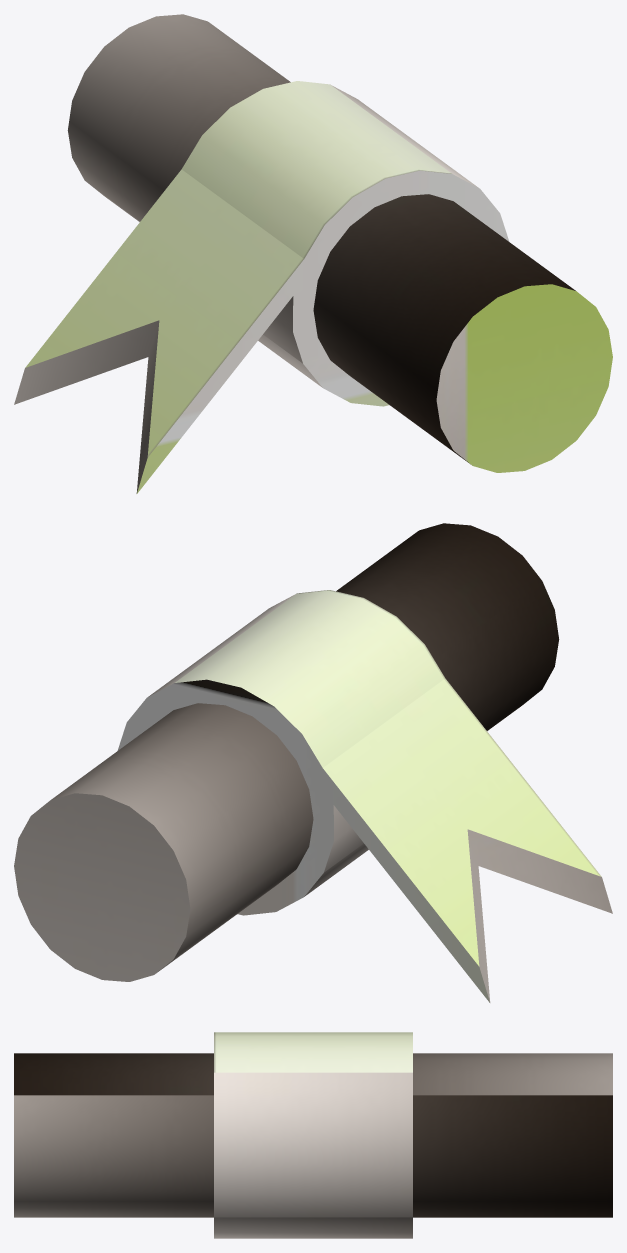
The model's file is DiplomaBurned.fbx.
3 views of the same model, one above another, from view 1: azimuth 30°, elevation 25°; view 2: azimuth 150°, elevation 25°; view 3: azimuth 270°, elevation 25° (orthographic). The views are drawn at different scales.
Visible parts, largest first — view 1: DiplomaBurned; view 2: DiplomaBurned; view 3: DiplomaBurned.
Part boxes in pixels (left/top/right/bottom): DiplomaBurned: left=14, top=14, right=612, bottom=493; DiplomaBurned: left=14, top=523, right=612, bottom=1002; DiplomaBurned: left=14, top=1032, right=612, bottom=1238.
Size of the model in its own units: 6.45 by 4.21 by 11.01.
1 material, 1 textured.
